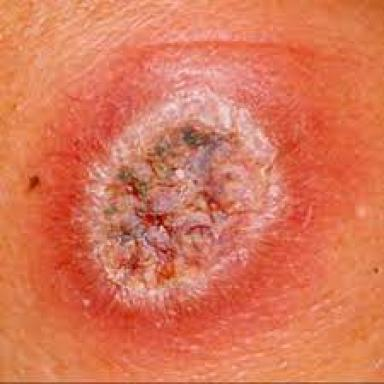Leishmanios: (34, 41, 331, 347)
